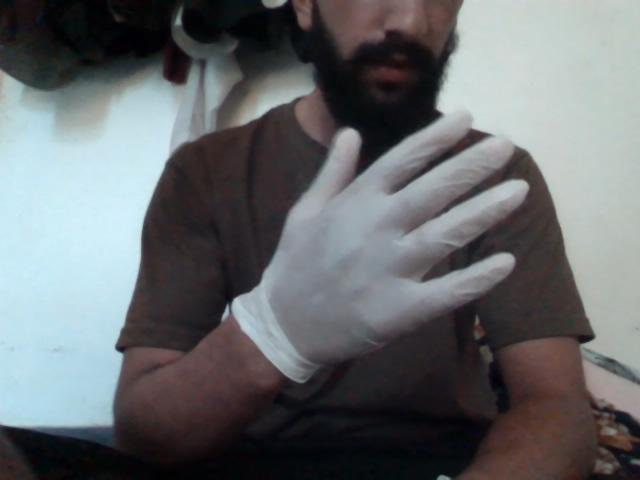gloves: (246, 96, 550, 375)
